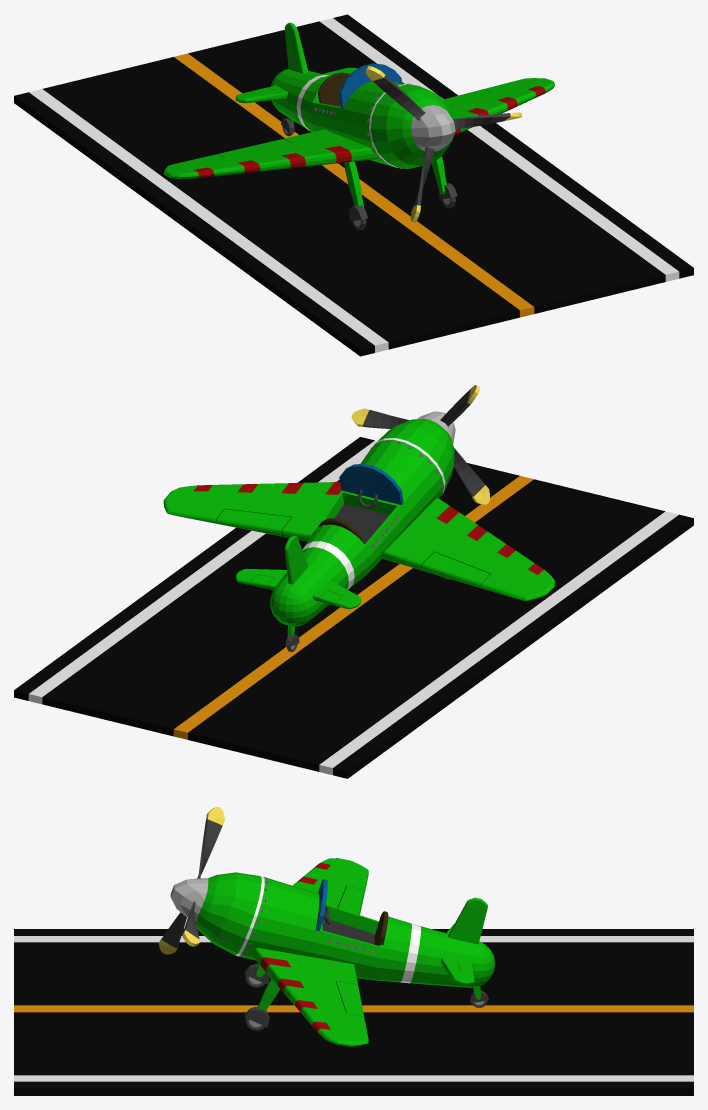
The model's file is toy_plane.fbx.
3 renders of one model, top to bottom at view 1: azimuth 30°, elevation 25°; view 2: azimuth 150°, elevation 25°; view 3: azimuth 270°, elevation 25°, orthographic.
Parts seen in each view (by area): view 1: Cube; view 2: Cube; view 3: Cube.
Part boxes in pixels (bbox=[...]): Cube: bbox=[14, 14, 693, 356]; Cube: bbox=[14, 385, 693, 778]; Cube: bbox=[14, 807, 693, 1095].
Size of the model in its own units: 1286 by 598 by 2007.
